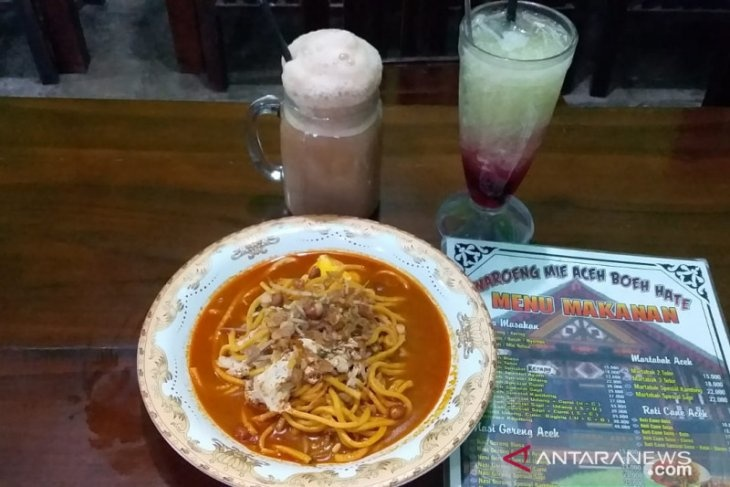mie_aceh: (186, 248, 452, 465)
